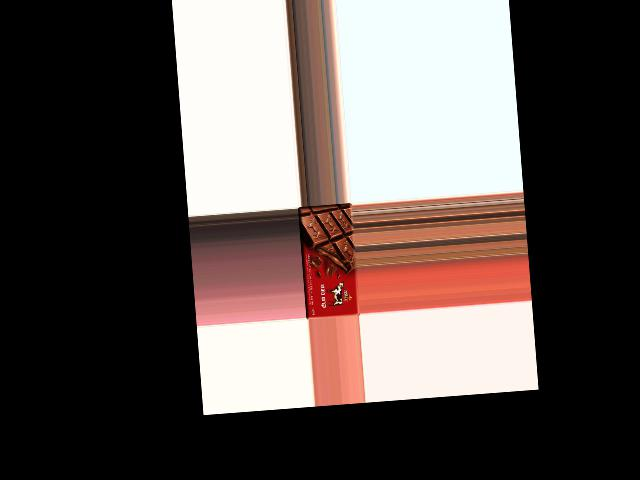chocolate: (298, 204, 360, 319)
